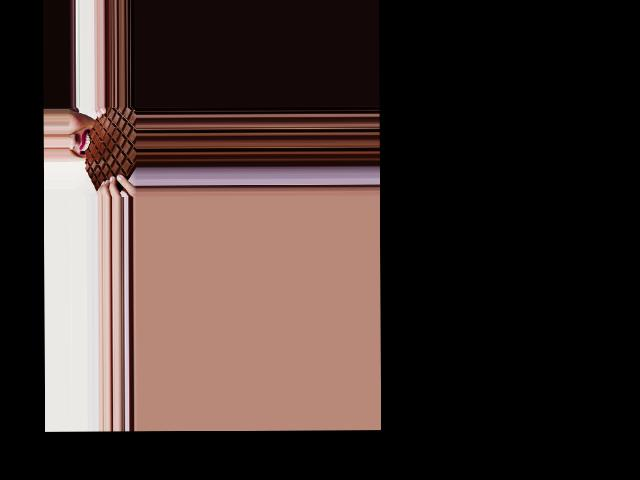chocolate: (82, 107, 136, 197)
